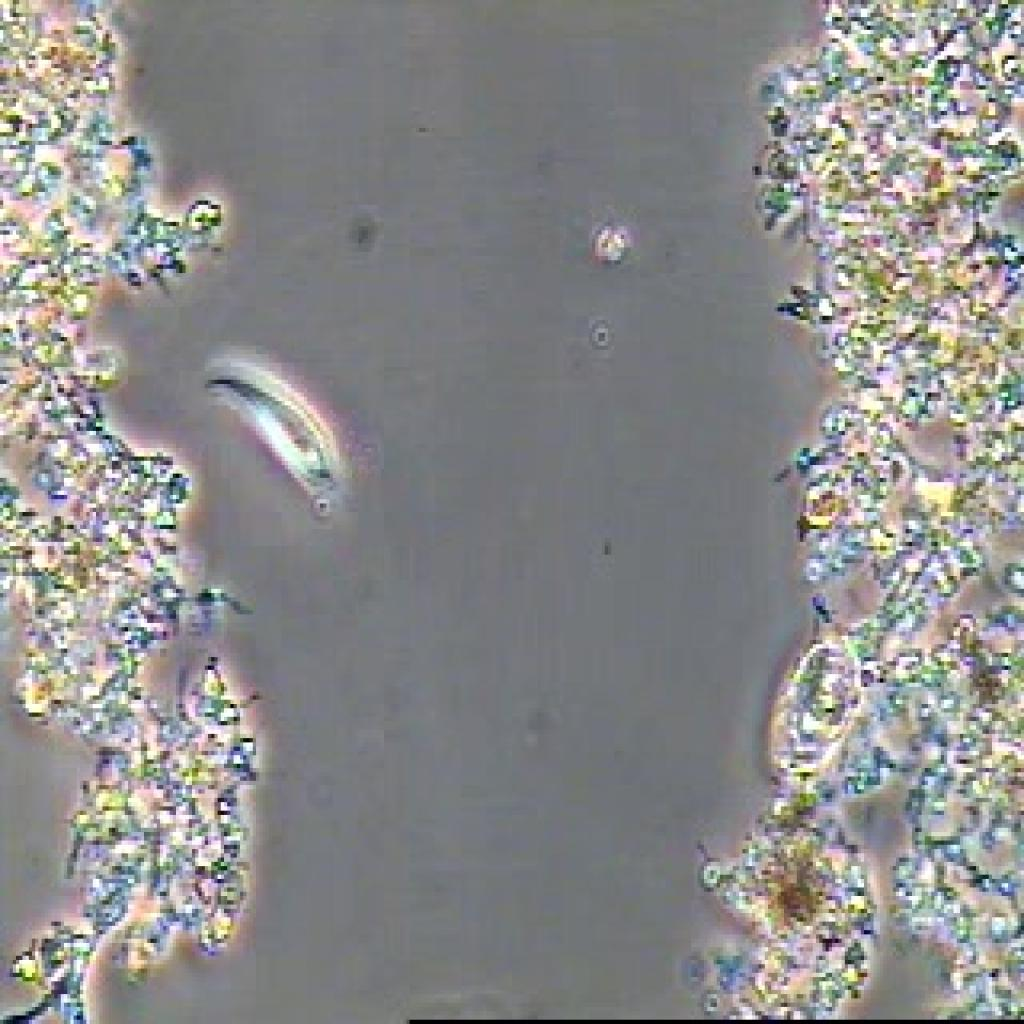Pristina: (181, 348, 360, 527)
